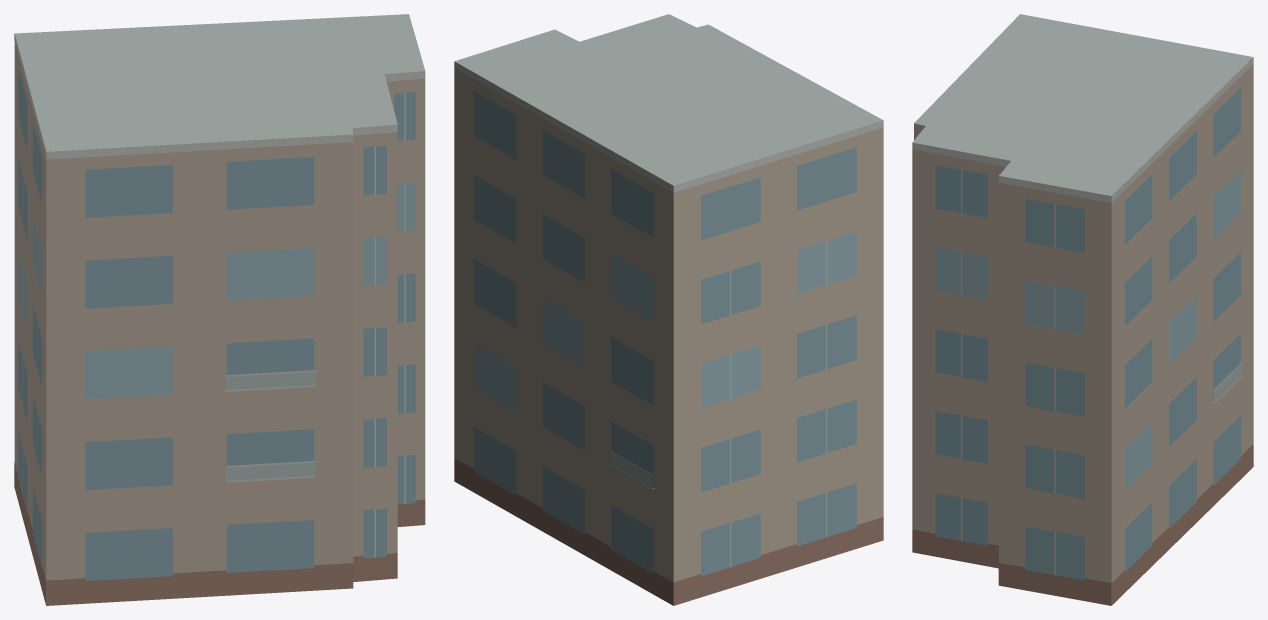
File: survey-upis-33028063.glb
3 views of the same model, side by side, from view 1: azimuth 30°, elevation 25°; view 2: azimuth 150°, elevation 25°; view 3: azimuth 270°, elevation 25° (orthographic). The views are drawn at different scales.
Parts seen in each view (by area): view 1: survey-upis-33028063.tmp; view 2: survey-upis-33028063.tmp; view 3: survey-upis-33028063.tmp.
Part boxes in pixels (x1=…): survey-upis-33028063.tmp: x1=14, y1=14, x2=425, y2=605; survey-upis-33028063.tmp: x1=454, y1=14, x2=883, y2=605; survey-upis-33028063.tmp: x1=912, y1=14, x2=1253, y2=605.
Bounding box in the file's own units: 13.83 × 14.5 × 10.95.
